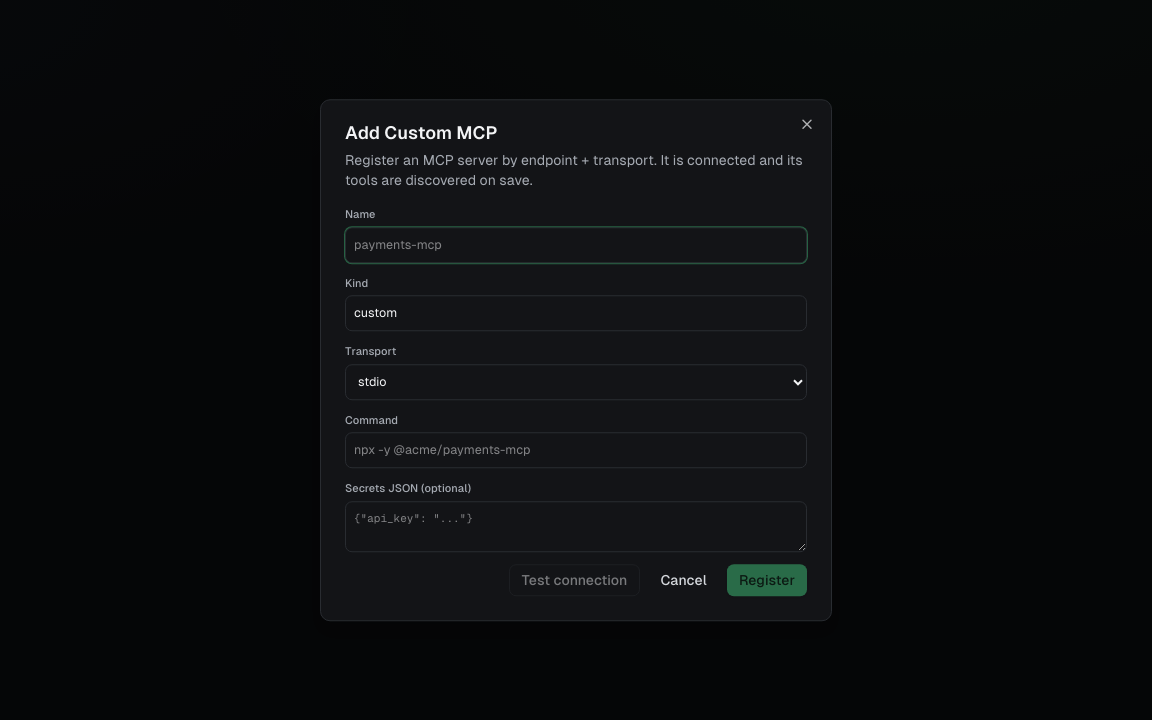
Test: RegisterMcpModal › surfaces a server error without closing
The image size is (1152, 720).
Type "dup-mcp" into the field with test id "mcp-name" at (576,245), box [345,227,807,263]
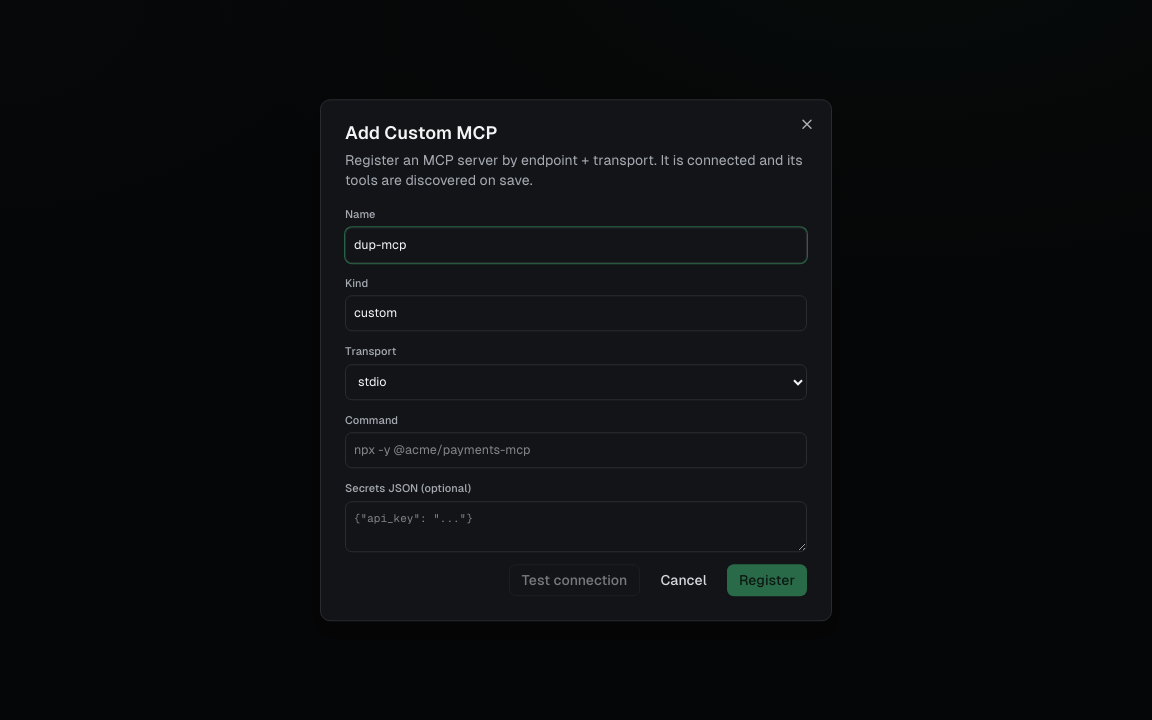
Type "cmd" into the field with test id "mcp-endpoint" at (576,450), box [345,432,807,468]
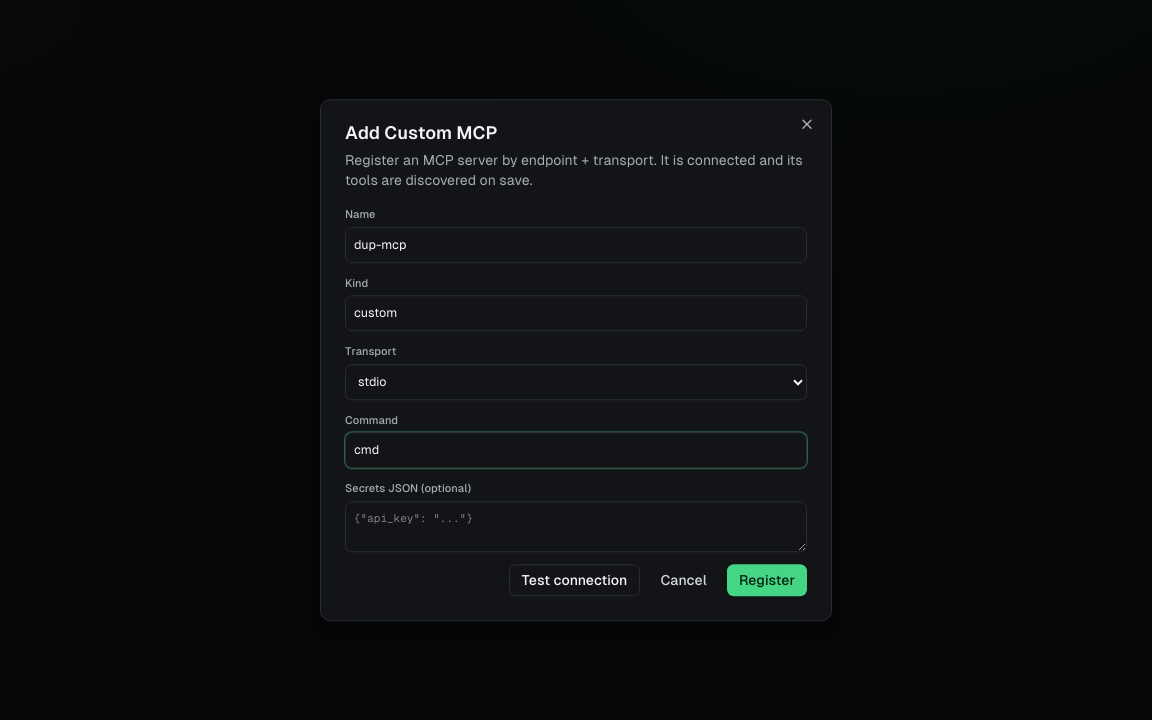
Click the button with test id "mcp-submit" at (767,580), box [727,564,807,596]
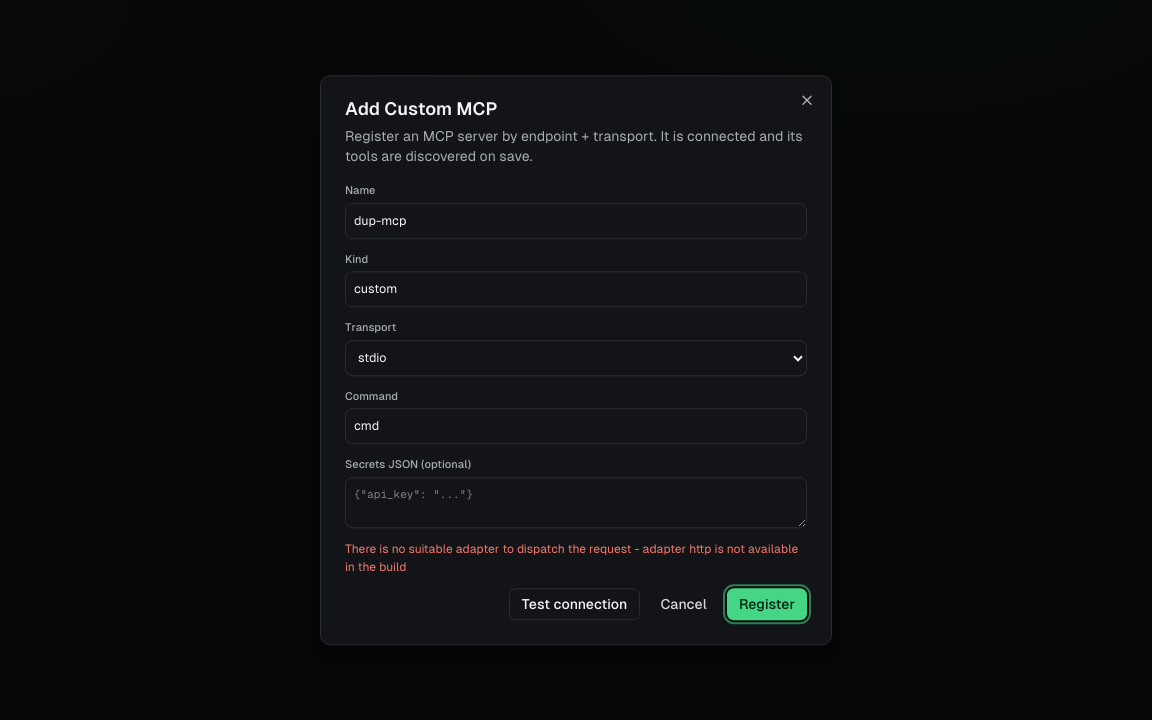
Expected: the text with test id "mcp-form-error" is shown, [345,540,807,576]
